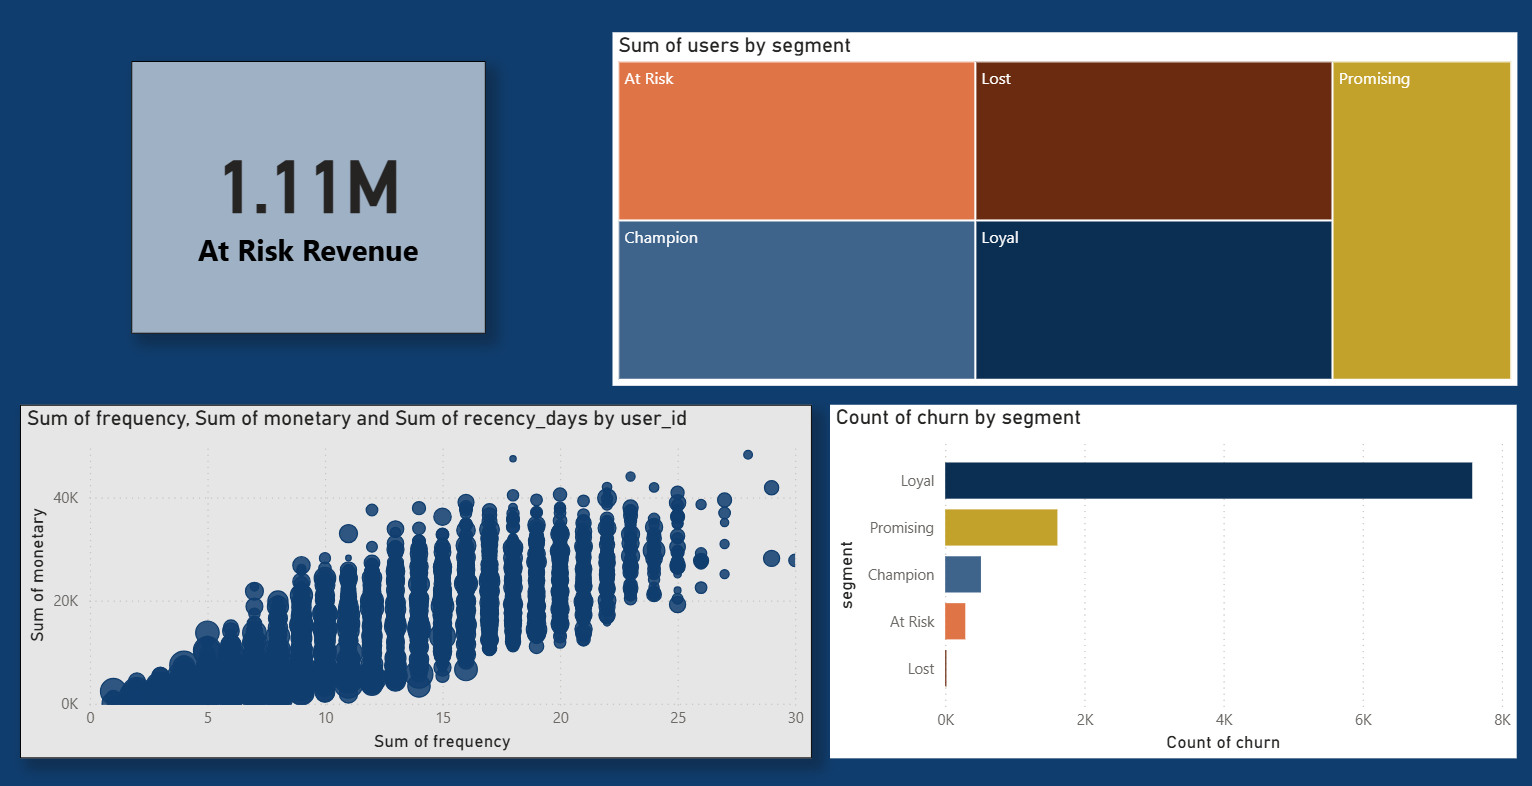

Layout of this report page (visuals, bound fields, positions):
{"tool":"powerbi","page":{"name":"RFM & Customer Segments","canvas":[1280,720],"ordinal":2},"visuals":[{"type":"treemap","fields":{"Group":["rfm_segments.segment"],"Values":["Sum(funnel.users)"]},"box":[608.1,41.9,650,290.7],"z":0},{"type":"scatterChart","fields":{"X":["Sum(rfm_segments.frequency)"],"Y":["Sum(rfm_segments.monetary)"],"Size":["Sum(rfm_segments.recency_days)"],"Category":["rfm_segments.user_id"]},"box":[29.1,347.7,650,290.7],"z":1000},{"type":"barChart","fields":{"Category":["rfm_segments.segment"],"Y":["CountNonNull(master_features.churn)"]},"box":[694.2,347.7,564,290.7],"z":2000},{"type":"card","fields":{"Values":["cohort_retention.At Risk Revenue"]},"box":[152.3,53.5,312.8,236],"z":3000}]}

Visuals, with their boxes on the page's 1280x720 design canvas (x1, y1, x2, y2). These are canvas units, not pixel positions in the 1532x786 screenshot, which may show the page scaled, cropped or inside an application window:
treemap - rfm_segments.segment x Sum(funnel.users): [x1=608, y1=42, x2=1258, y2=333]
scatterChart - Sum(rfm_segments.frequency) x Sum(rfm_segments.monetary): [x1=29, y1=348, x2=679, y2=638]
barChart - rfm_segments.segment x CountNonNull(master_features.churn): [x1=694, y1=348, x2=1258, y2=638]
card - cohort_retention.At Risk Revenue: [x1=152, y1=54, x2=465, y2=290]
